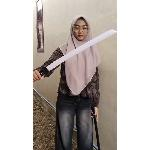Pedang: (43, 26, 117, 76)
